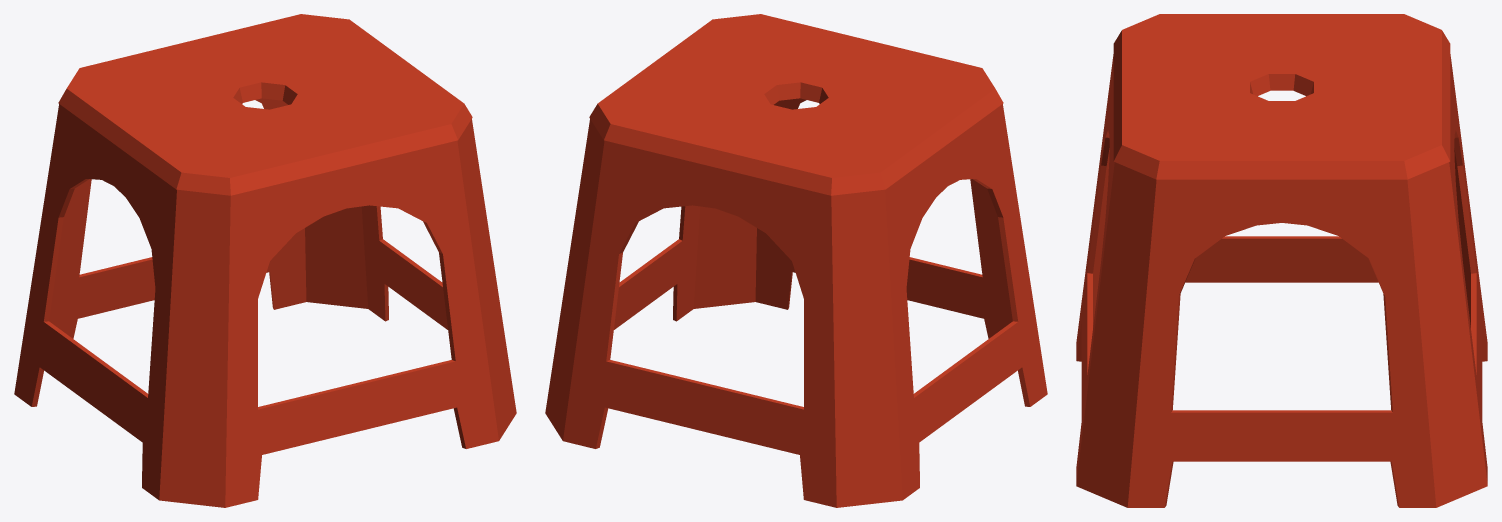
The model's file is SM_Furniture_StoolLow_Red_01.fbx.
3 renders of one model, left to right at view 1: azimuth 30°, elevation 25°; view 2: azimuth 150°, elevation 25°; view 3: azimuth 270°, elevation 25°, orthographic. The views are drawn at different scales.
Visible parts, largest first — view 1: SM_Furniture_StoolLow_Red_01; view 2: SM_Furniture_StoolLow_Red_01; view 3: SM_Furniture_StoolLow_Red_01.
Boxes of the visible parts, <box> form: SM_Furniture_StoolLow_Red_01: <box>14,14,516,507</box>; SM_Furniture_StoolLow_Red_01: <box>545,14,1047,507</box>; SM_Furniture_StoolLow_Red_01: <box>1076,14,1487,507</box>.
Size of the model in its own units: 0.316 by 0.26 by 0.296.
1 material, 1 textured.
